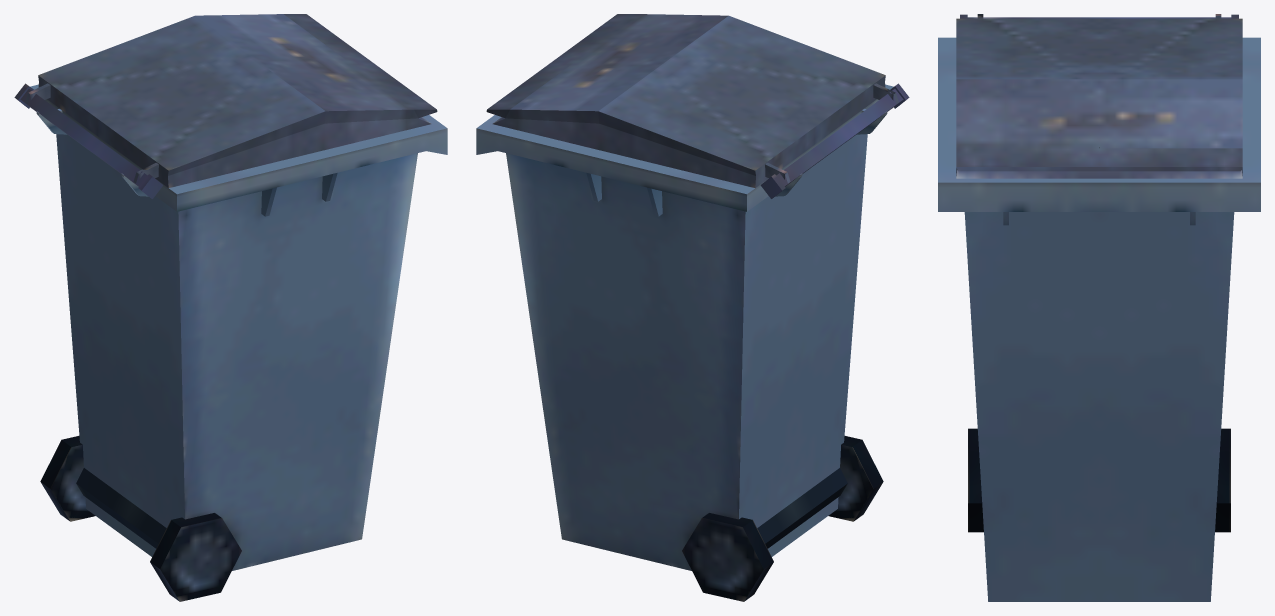
File: Urban_TrashCanAlt1_Model.fbx
3 views of the same model, side by side, from view 1: azimuth 30°, elevation 25°; view 2: azimuth 150°, elevation 25°; view 3: azimuth 270°, elevation 25° (orthographic). The views are drawn at different scales.
Visible parts, largest first — view 1: Urban_TrashCanAlt1_Mesh; view 2: Urban_TrashCanAlt1_Mesh; view 3: Urban_TrashCanAlt1_Mesh.
Boxes of the visible parts, <box> form: Urban_TrashCanAlt1_Mesh: <box>14,14,447,601</box>; Urban_TrashCanAlt1_Mesh: <box>476,14,909,601</box>; Urban_TrashCanAlt1_Mesh: <box>938,14,1260,601</box>.
Bounding box in the file's own units: 0.9058 × 1.35 × 0.7794.
